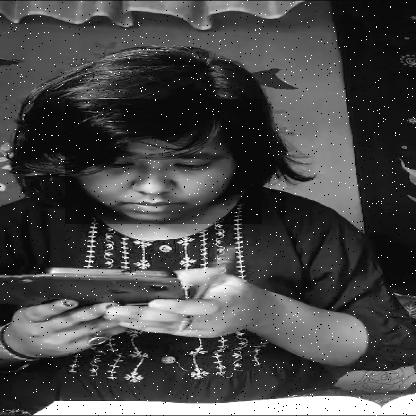Normal: (65, 99, 262, 224)
